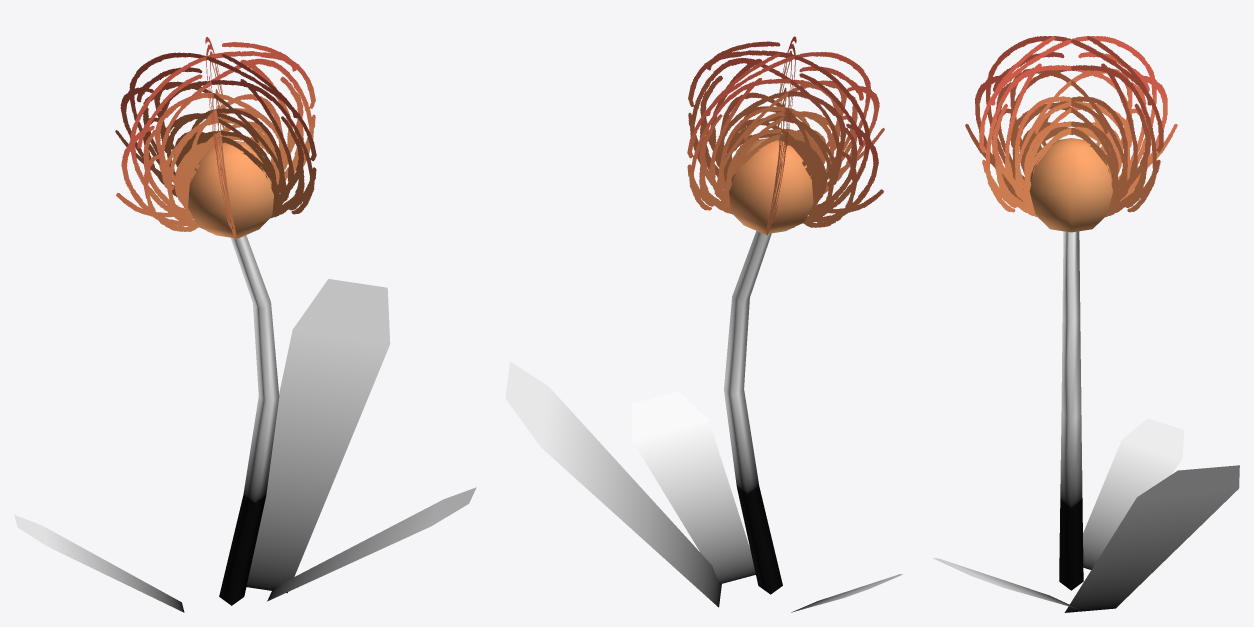
Rendered from Flower_MID2.fbx.
The picture shows the model from 3 angles, left to right: view 1: azimuth 30°, elevation 25°; view 2: azimuth 150°, elevation 25°; view 3: azimuth 270°, elevation 25°; orthographic projection. The views are drawn at different scales.
Parts seen in each view (by area): view 1: MID_2; view 2: MID_2; view 3: MID_2.
Boxes of the visible parts, box(x1,y1,x2,y2) form: MID_2: box(14, 37, 476, 612); MID_2: box(505, 36, 902, 612); MID_2: box(932, 36, 1239, 612).
Size of the model in its own units: 3.56 by 5.13 by 2.54.
Materials: 2 (1 with a texture image).
